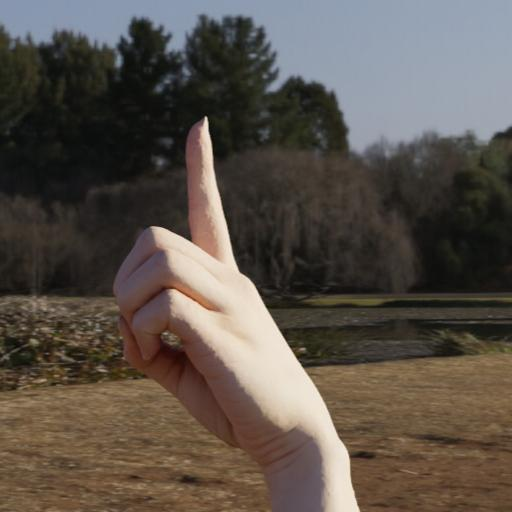D: (85, 93, 348, 512)
